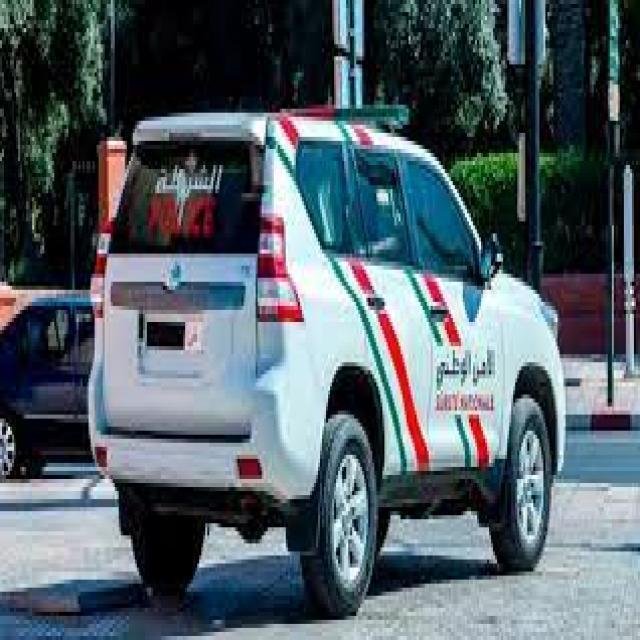police: (81, 65, 570, 616)
